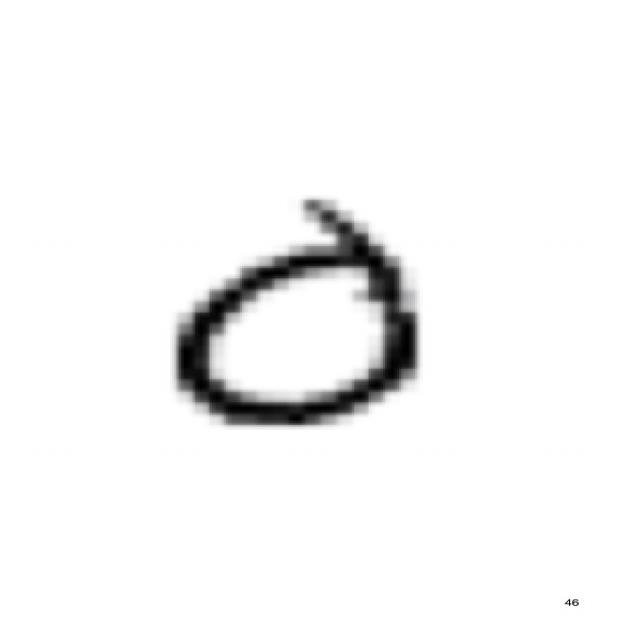5 -five-: (164, 186, 432, 435)
